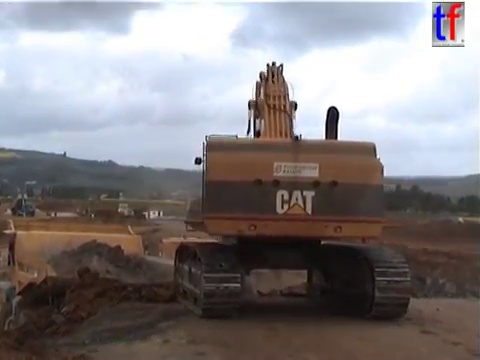excavator: (171, 59, 415, 323)
truck: (2, 216, 195, 360), (156, 234, 248, 305), (104, 201, 137, 219)
